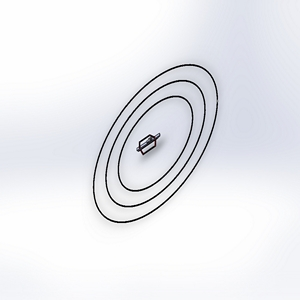circle: (87, 58, 223, 229)
submarine: (133, 128, 167, 161)
